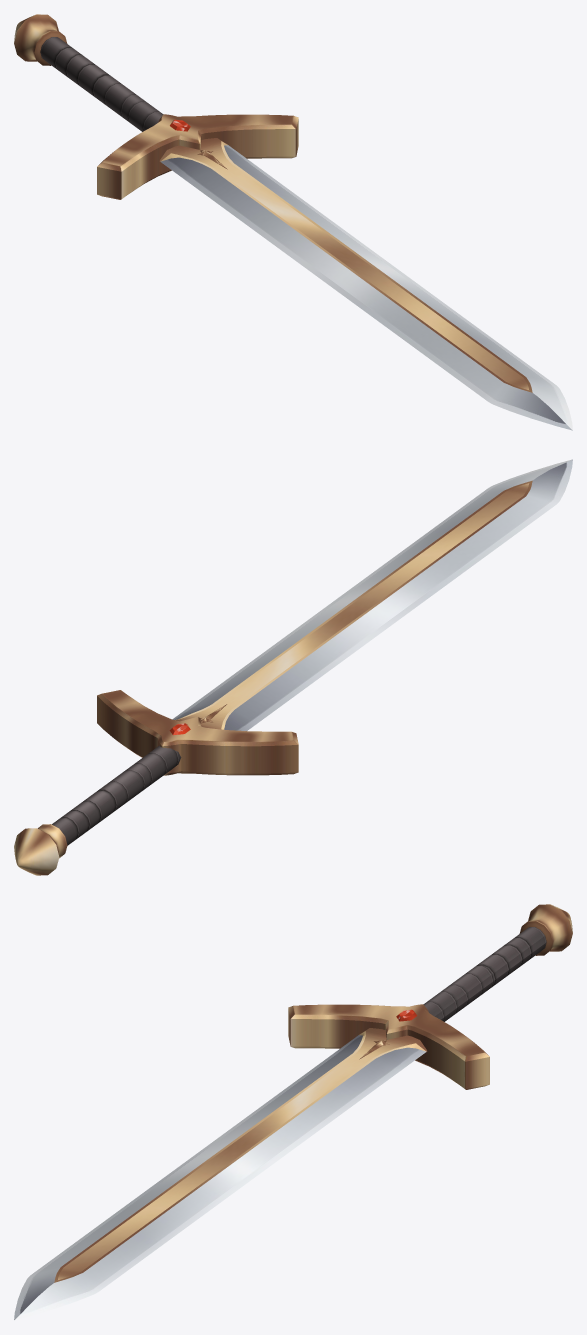
The model's file is Sword.gltf.
3 views of the same model, one above another, from view 1: azimuth 30°, elevation 25°; view 2: azimuth 150°, elevation 25°; view 3: azimuth 330°, elevation 25° (orthographic).
Visible parts, largest first — view 1: Weapon_Sword; view 2: Weapon_Sword; view 3: Weapon_Sword.
Boxes of the visible parts, bbox=[...] form: Weapon_Sword: bbox=[14, 14, 572, 430]; Weapon_Sword: bbox=[14, 459, 572, 875]; Weapon_Sword: bbox=[14, 904, 572, 1320].
Bounding box in the file's own units: 25.59 × 5.75 × 122.
Materials: 1 (1 with a texture image).
